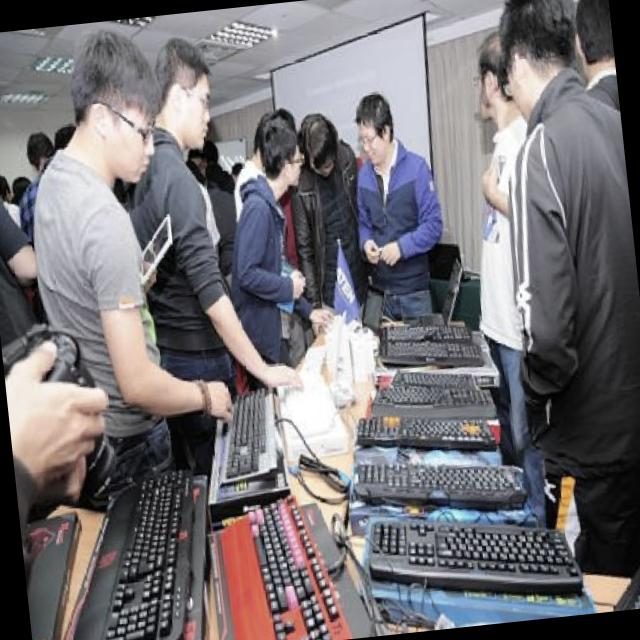Person: (0, 0, 472, 561), (445, 26, 574, 534), (569, 0, 619, 112)
